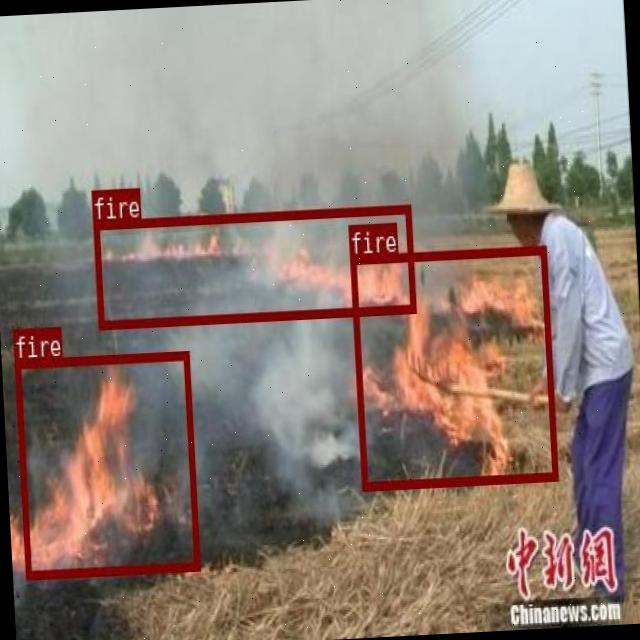fire: (350, 245, 558, 488), (13, 350, 200, 578), (92, 204, 416, 328)
